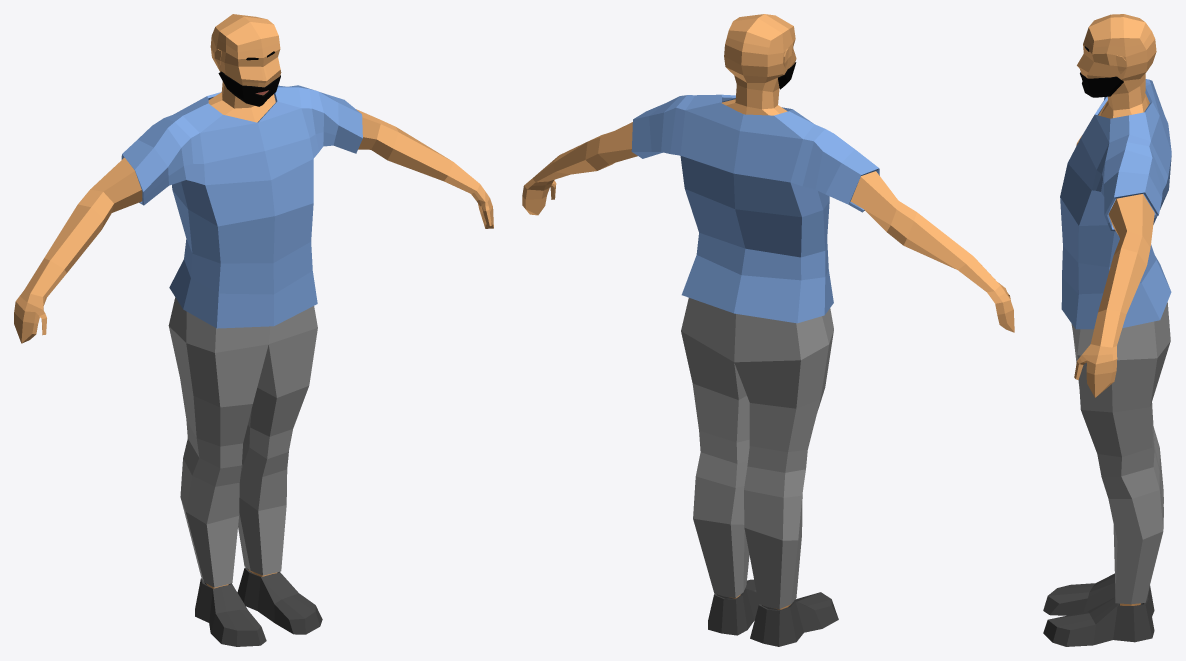
Rendered from Npc8.fbx.
The picture shows the model from 3 angles, left to right: view 1: azimuth 30°, elevation 25°; view 2: azimuth 150°, elevation 25°; view 3: azimuth 270°, elevation 25°; orthographic projection. The views are drawn at different scales.
Parts seen in each view (by area): view 1: Body.007; view 2: Body.007; view 3: Body.007.
Boxes of the visible parts, x1,y1,x2,y2 form: Body.007: (14,14,493,646); Body.007: (522,14,1014,646); Body.007: (1043,14,1171,646).
Bounding box in the file's own units: 537 × 646 × 124.
